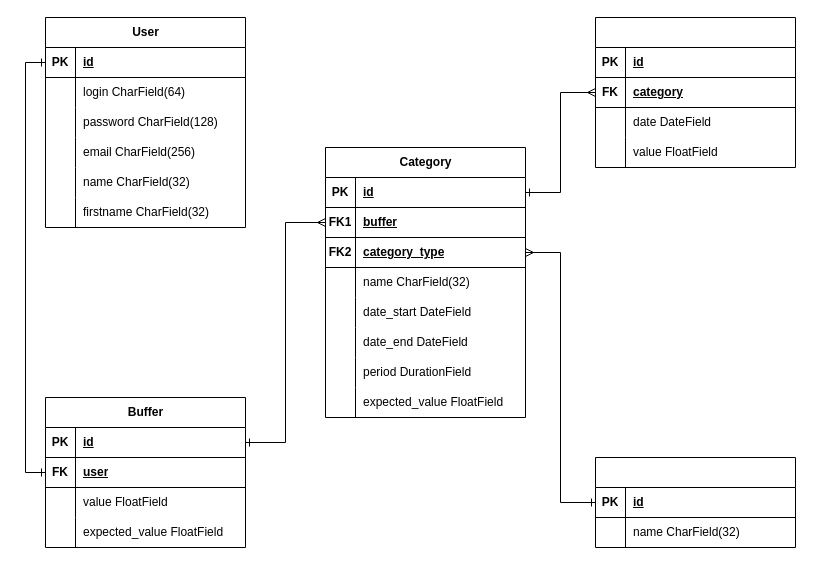
Image size: 813x565. Some labels were removed from this diagram. Here are the shapes that lost their labels. From the top down, the box of each, then its label:
(594, 16, 796, 168): Note
(594, 456, 796, 548): CategoryType
